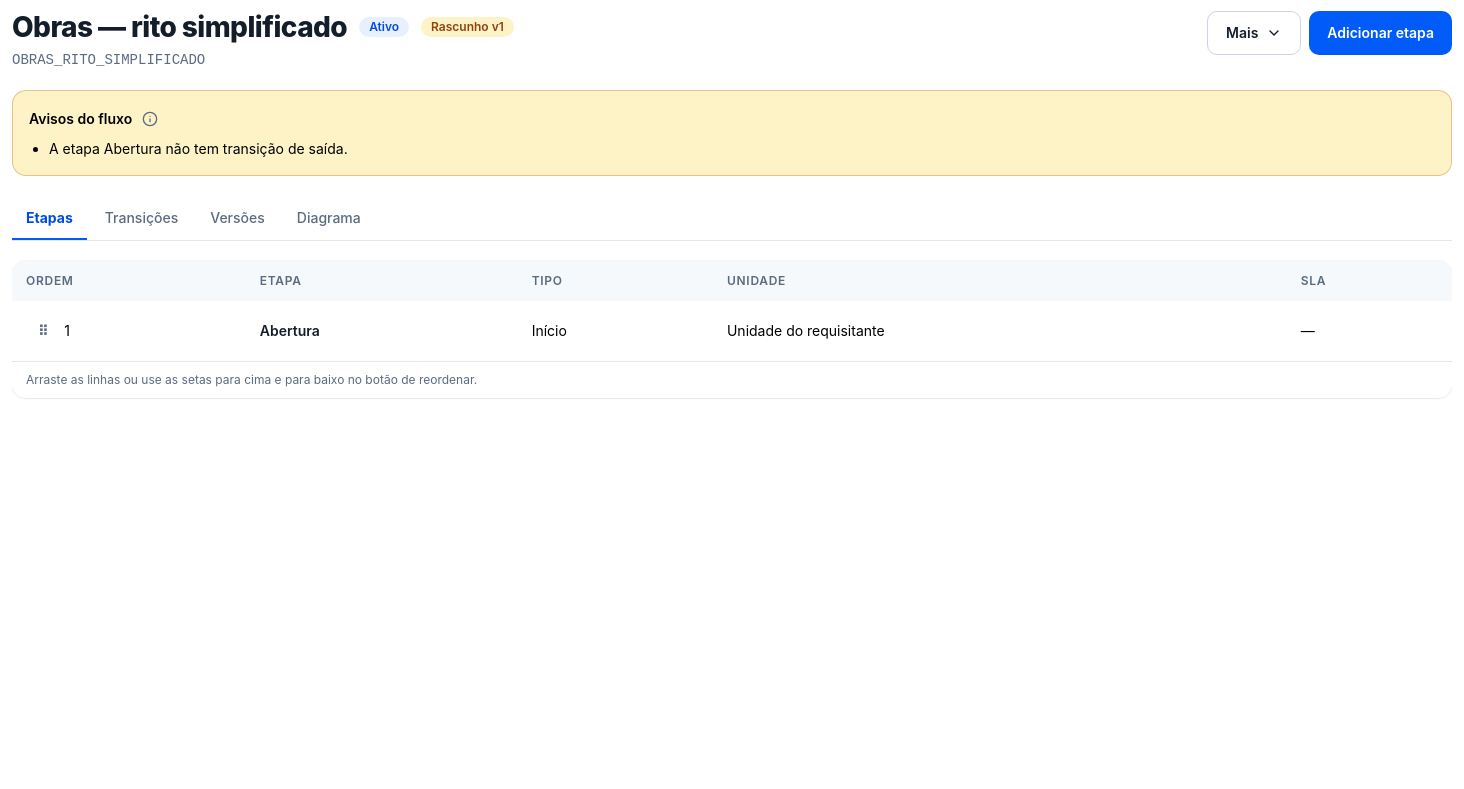
SCR-034 · editor de workflow (US-043) › [Sucesso] salva o campo ao perder o foco (WF-11 com If-Match da etapa)
This screenshot has width=1464, height=789.
Click the button with aria-label "Abrir as propriedades de Abertura" at (290, 331), box [260,321,320,341]
(page scrolled)
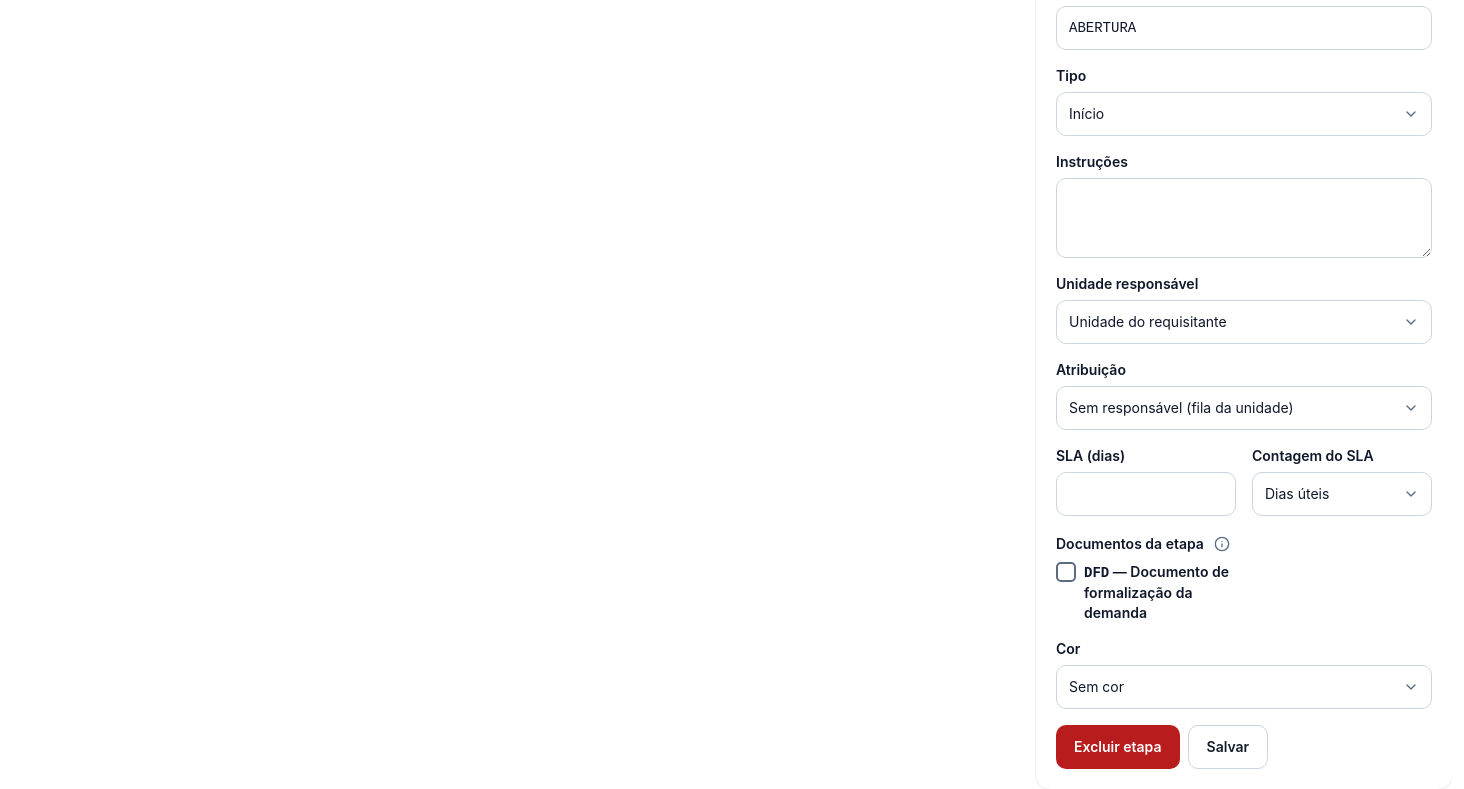
Type "5" into the number field labelled "SLA (dias)" at (1146, 494), box [1056,472,1236,516]
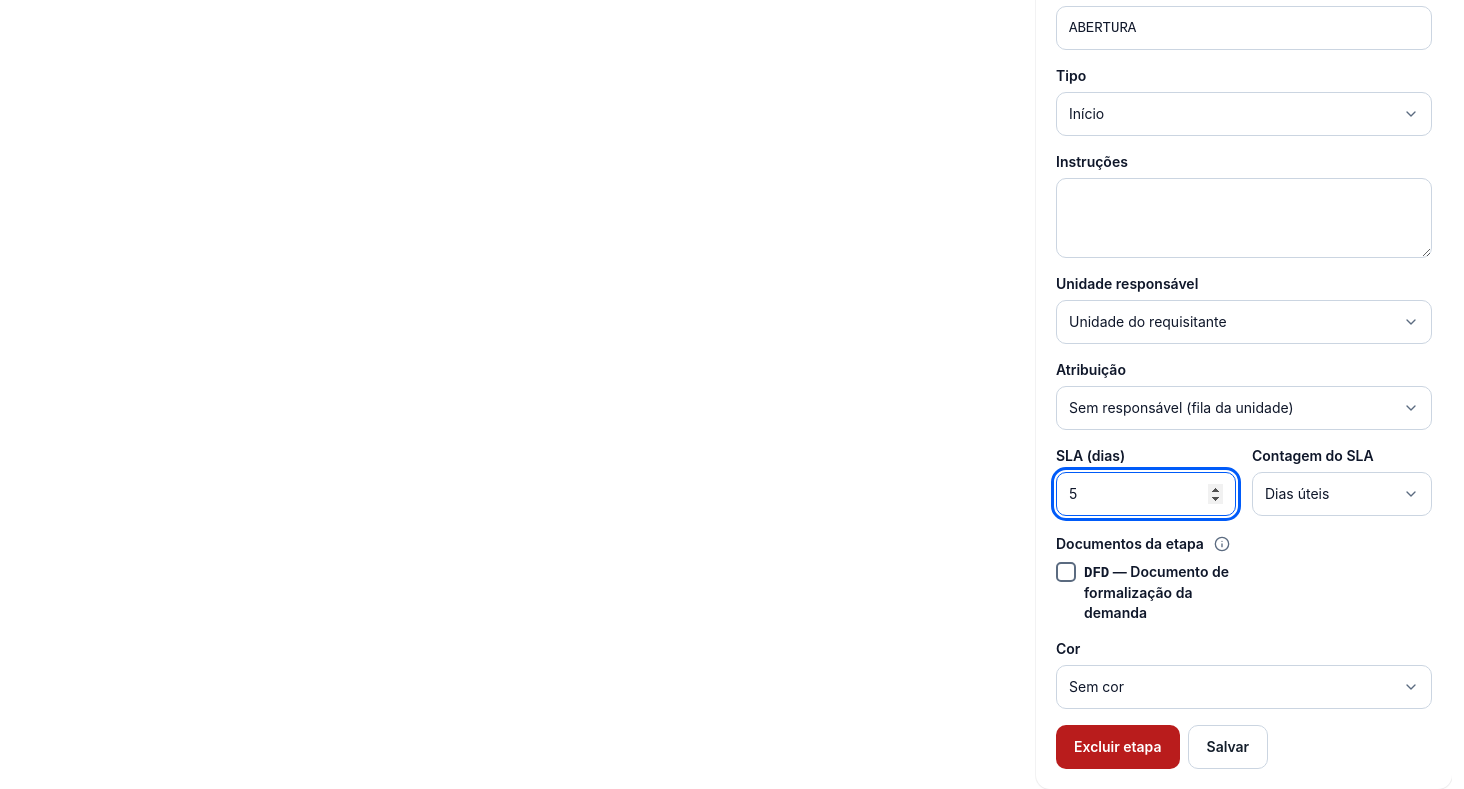
Leave the number field labelled "SLA (dias)", box [1056,472,1236,516]
(page scrolled)
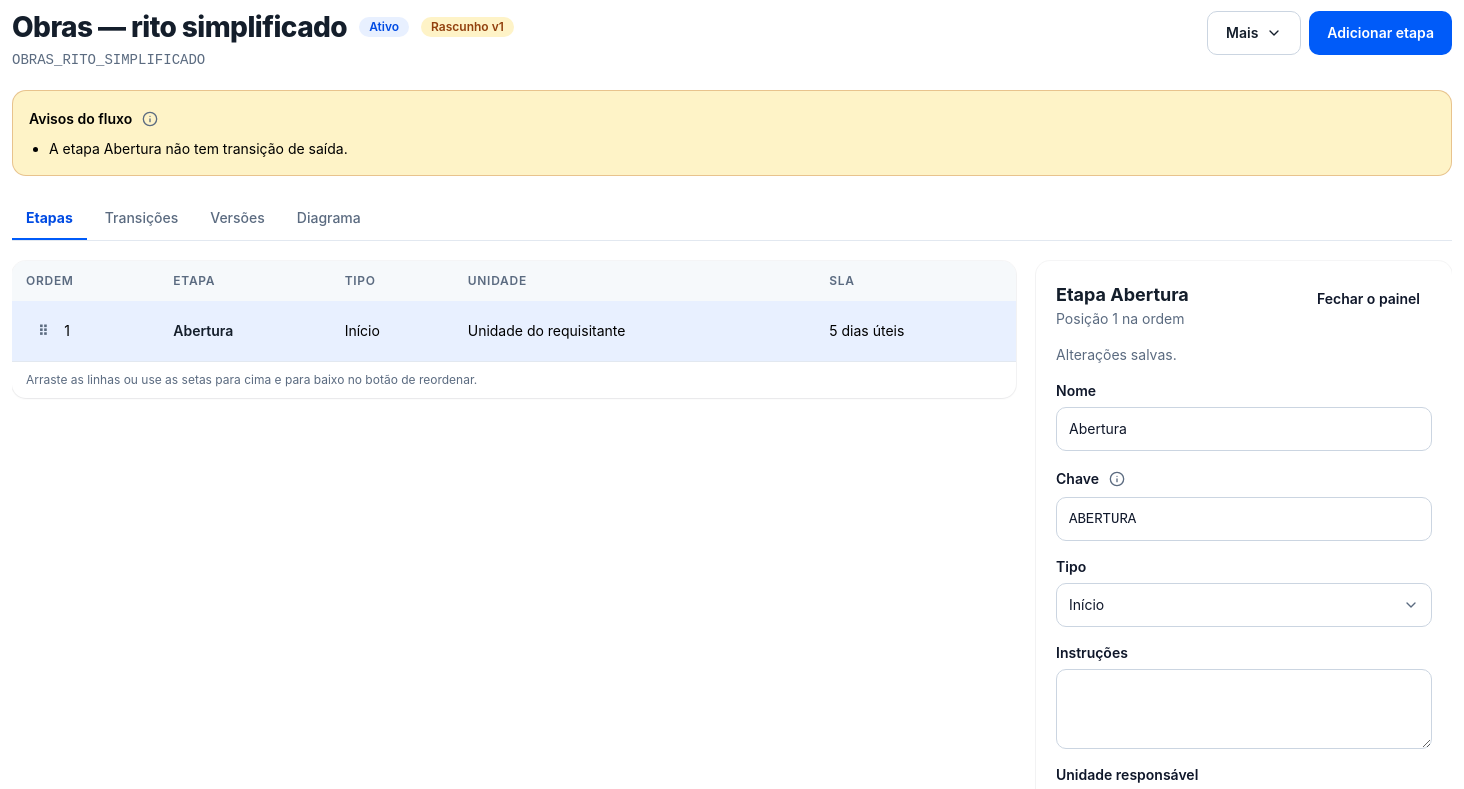
Now the text "Alterações salvas." is shown, box [1056,346,1177,363]
